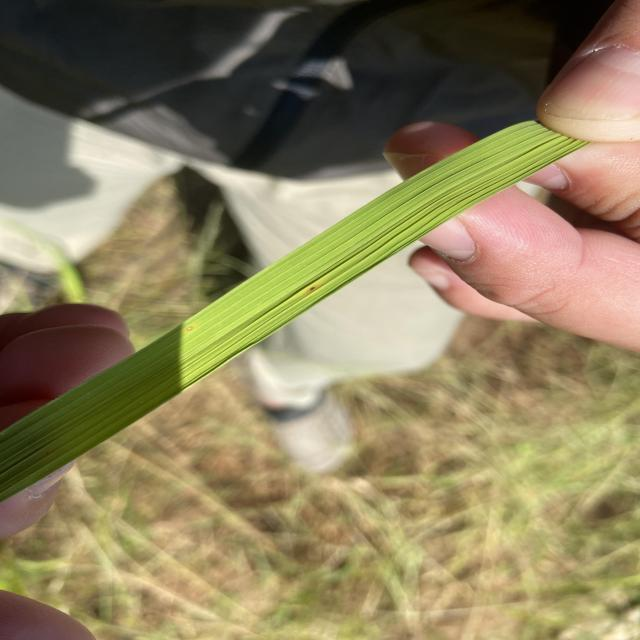Dom nau: (310, 287, 315, 290), (187, 327, 192, 330)
